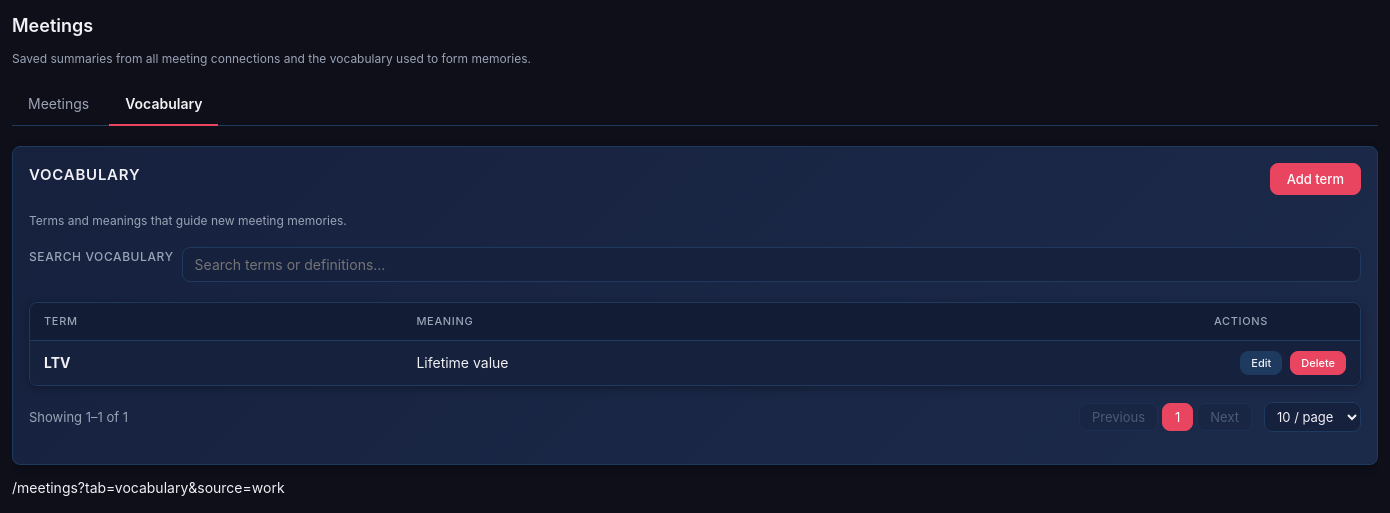
Test case: MeetingsIndexPage › opens Vocabulary from its URL and preserves unrelated query parameters when switching views
This screenshot has width=1390, height=513.
Expected: the button with aria-label "Edit LTV" is shown, top-left (1240, 351), bottom-right (1282, 375)
Click the link "Meetings": (59, 104) top-left (28, 95), bottom-right (89, 112)
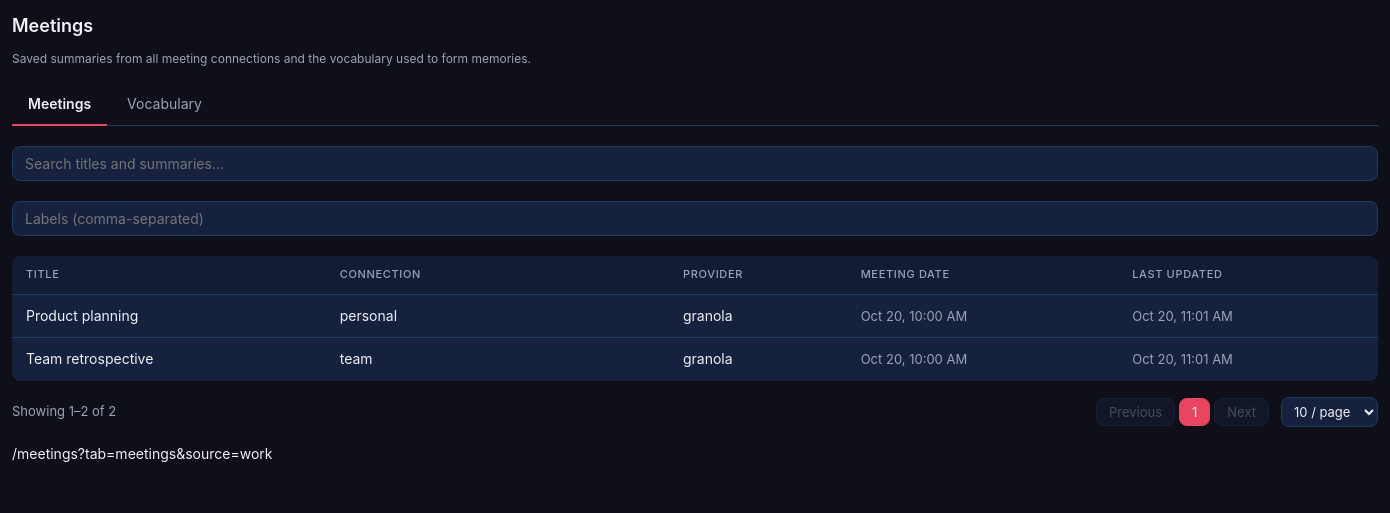
Result: the field named "Search meetings" is shown at top-left (12, 146), bottom-right (1378, 181)
Result: the text with test id "location" reads "/meetings?tab=meetings&source=work" at top-left (12, 445), bottom-right (272, 462)
Result: the text "Edit LTV" is gone
